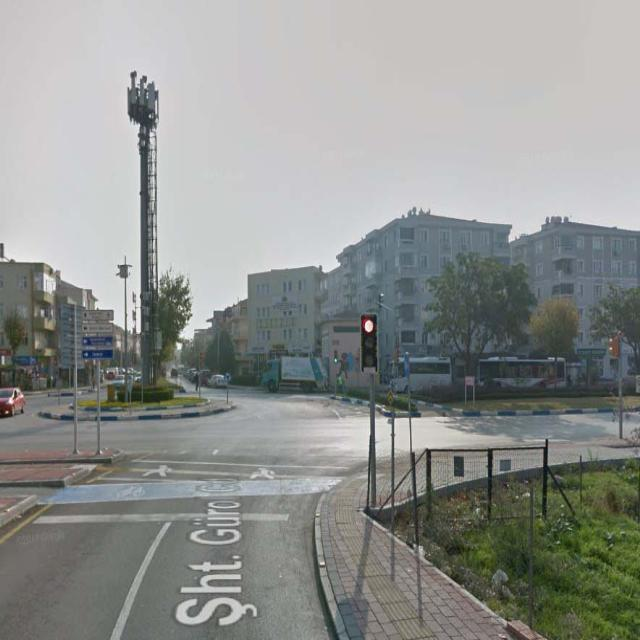kirmizi: (361, 314, 377, 372)
